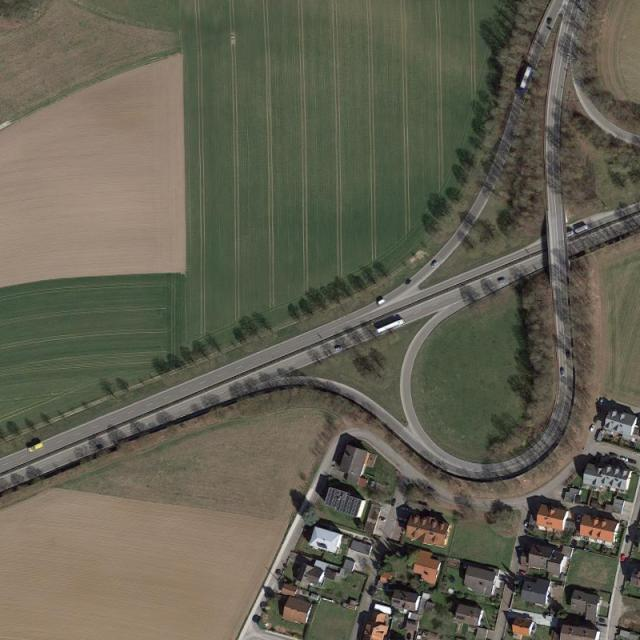vehicle: (378, 319, 405, 334), (521, 67, 531, 88), (29, 442, 43, 453), (576, 225, 589, 234), (377, 298, 387, 306), (627, 457, 637, 465), (431, 260, 439, 269), (335, 345, 345, 351), (620, 456, 629, 462), (625, 534, 630, 544), (610, 452, 618, 458), (498, 278, 507, 283), (405, 279, 411, 286), (561, 368, 565, 376), (590, 425, 595, 431), (547, 18, 551, 24), (622, 554, 625, 561), (575, 1, 580, 2)
